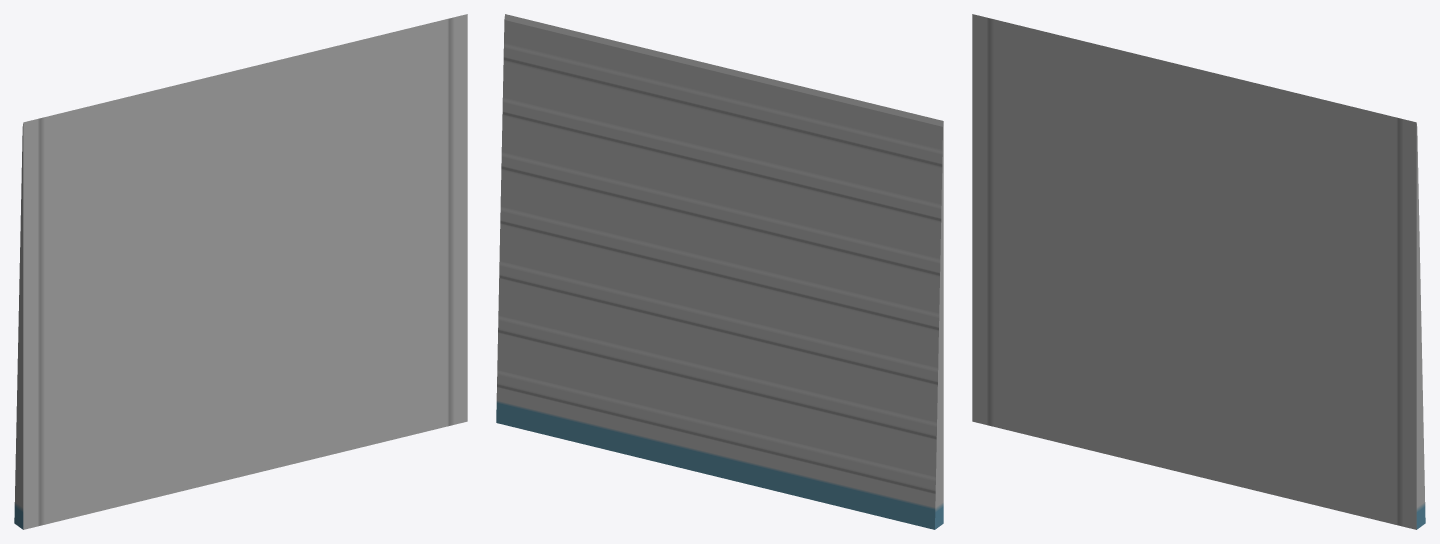
Rendered from VehicleBack.fbx.
The picture shows the model from 3 angles, left to right: view 1: azimuth 30°, elevation 25°; view 2: azimuth 150°, elevation 25°; view 3: azimuth 330°, elevation 25°; orthographic projection.
Visible parts, largest first — view 1: VehicleBack; view 2: VehicleBack; view 3: VehicleBack.
Part boxes in pixels (x1,y1,x2,y2): VehicleBack: (14, 14, 467, 529); VehicleBack: (496, 14, 943, 529); VehicleBack: (972, 14, 1425, 529).
Size of the model in its own units: 405 by 355 by 14.16.
